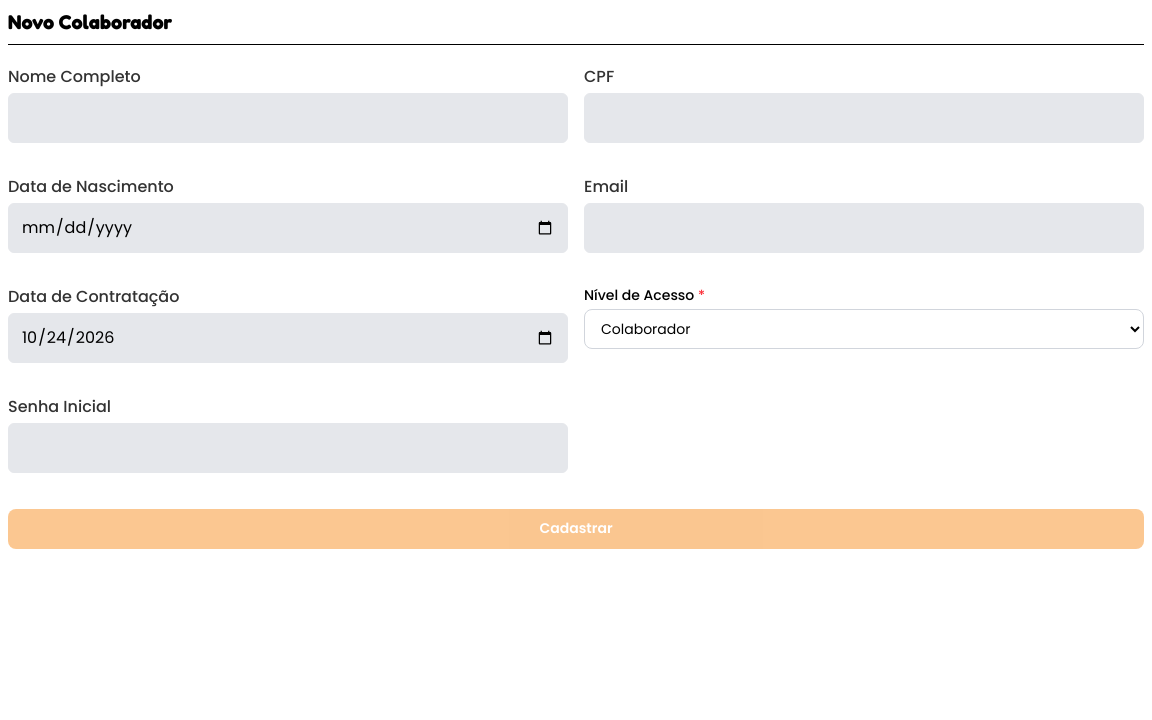
Scenario: CreateCoord (novo colaborador) › mostra os erros de validação e não envia
In the field labelled "Nome Completo": (288, 118) [8,93,568,143], type "A1"
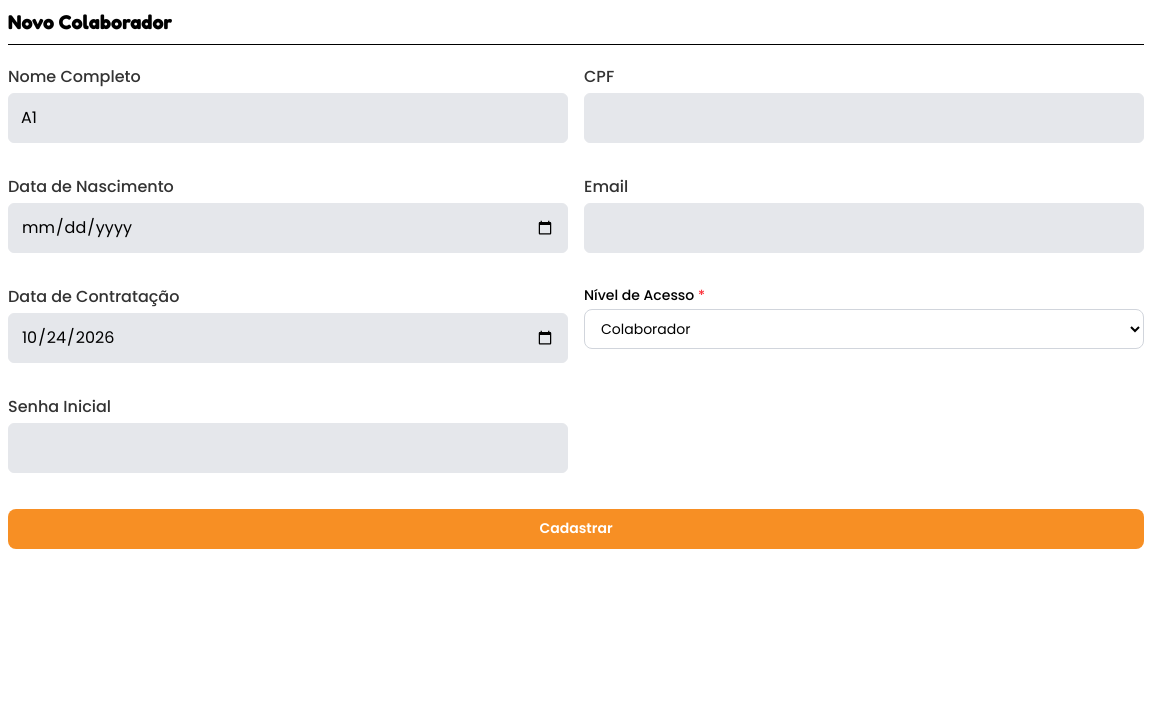
In the field labelled "CPF": (864, 118) [584,93,1144,143], type "123"
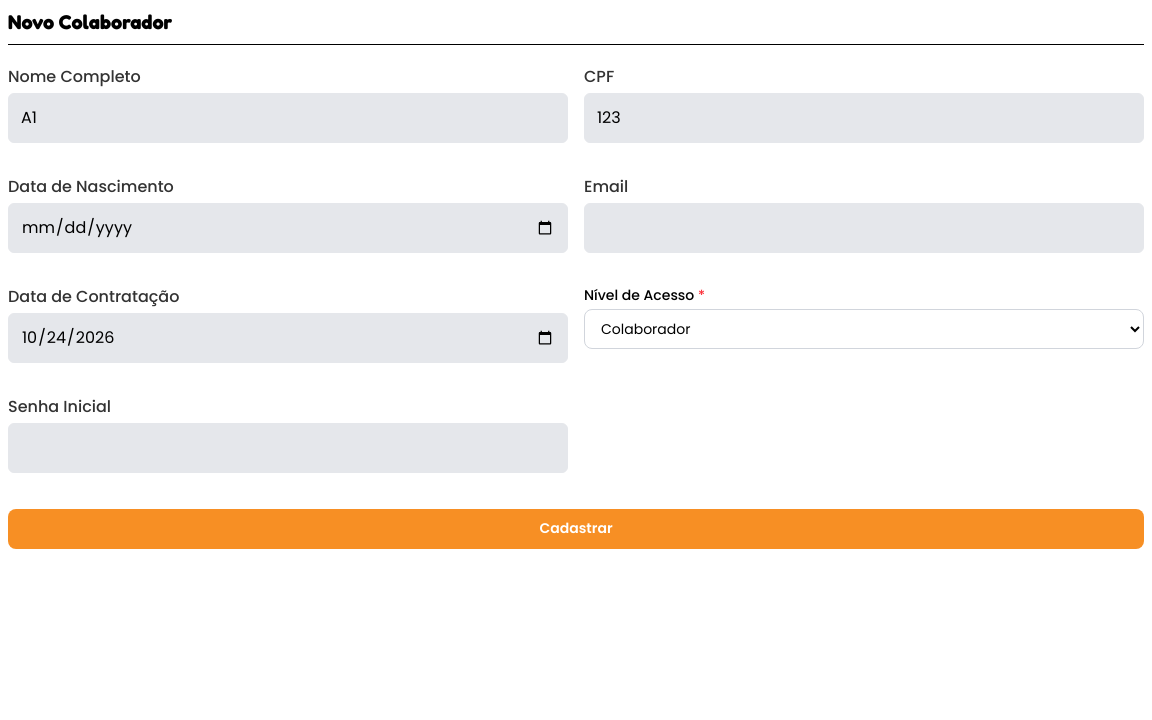
In the field labelled "Email": (864, 228) [584,203,1144,253], type "invalido"
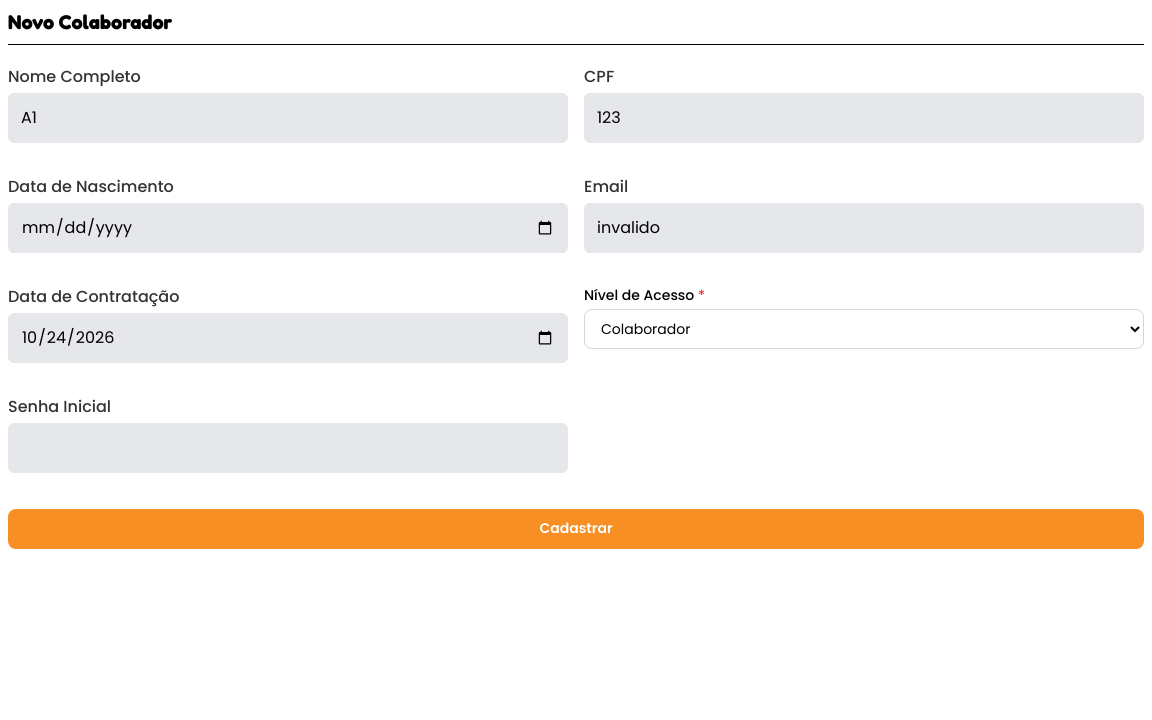
In the password field labelled "Senha Inicial": (288, 448) [8,423,568,473], type "curta"
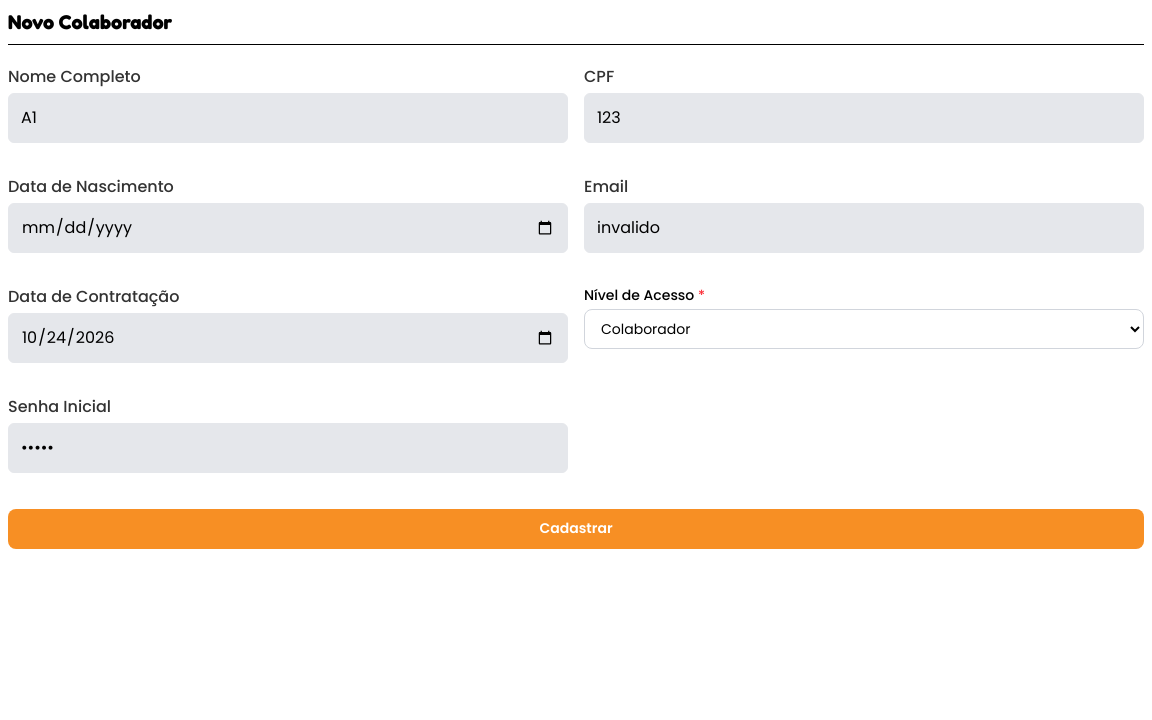
Click the button "Cadastrar": click(576, 529) [8,509,1144,549]
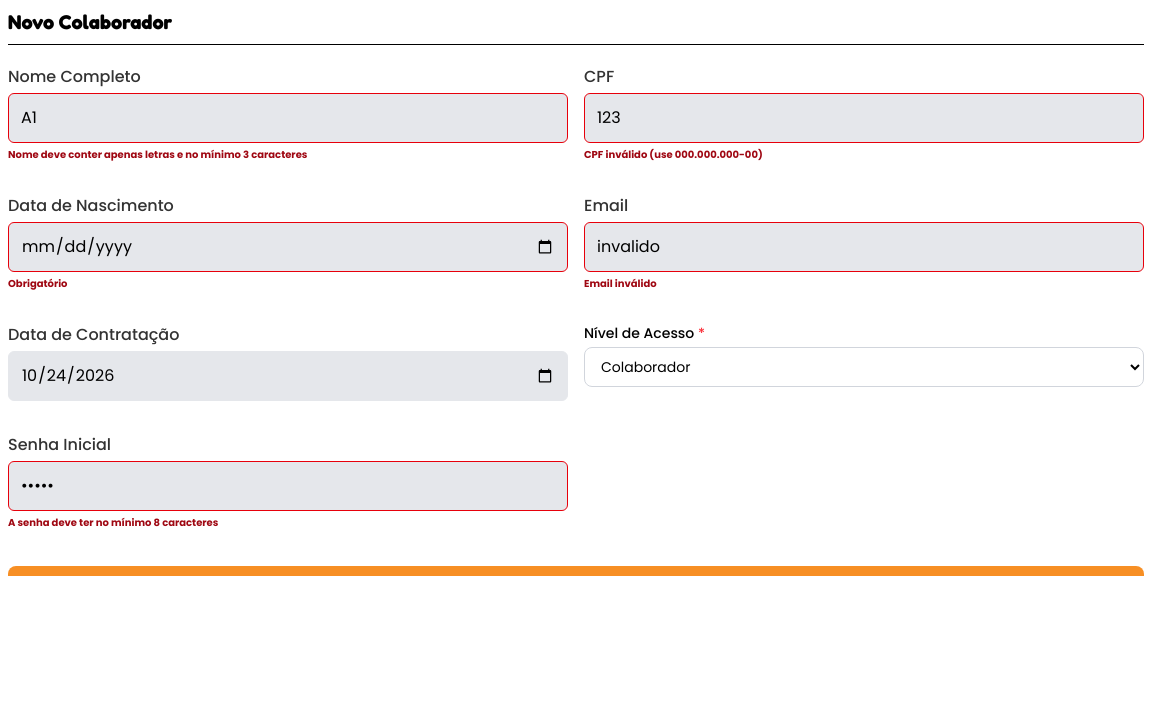
Result: the text "Nome deve conter apenas letras e no mínimo 3 caracteres" is shown at [8,147,307,162]
Result: the text "CPF inválido (use 000.000.000-00)" is shown at [584,147,763,162]
Result: the text "Email inválido" is shown at [584,276,657,291]
